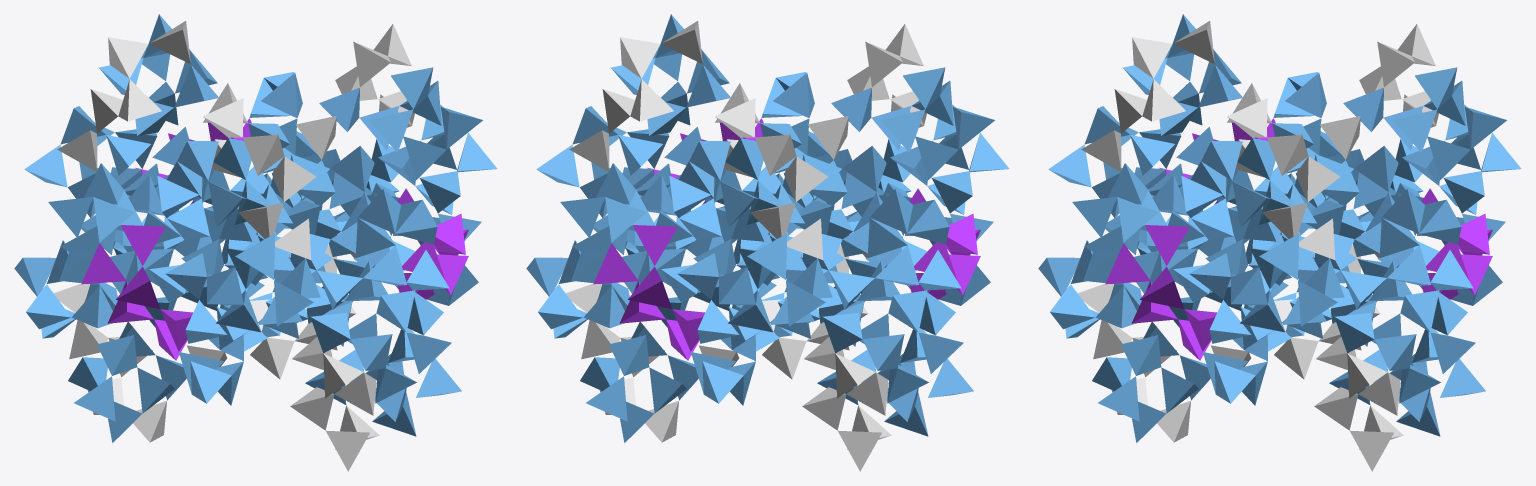
File: Hexamer_Merged_FinalScale.fbx
3 renders of one model, left to right at view 1: azimuth 30°, elevation 25°; view 2: azimuth 150°, elevation 25°; view 3: azimuth 270°, elevation 25°, orthographic.
Parts seen in each view (by area): view 1: HexamerMerged; view 2: HexamerMerged; view 3: HexamerMerged.
Part boxes in pixels (x1,y1,x2,y2): HexamerMerged: (14,14,497,471); HexamerMerged: (526,14,1009,471); HexamerMerged: (1038,14,1521,471).
Bounding box in the file's own units: 527 × 433 × 520.
1 material, 1 textured.
